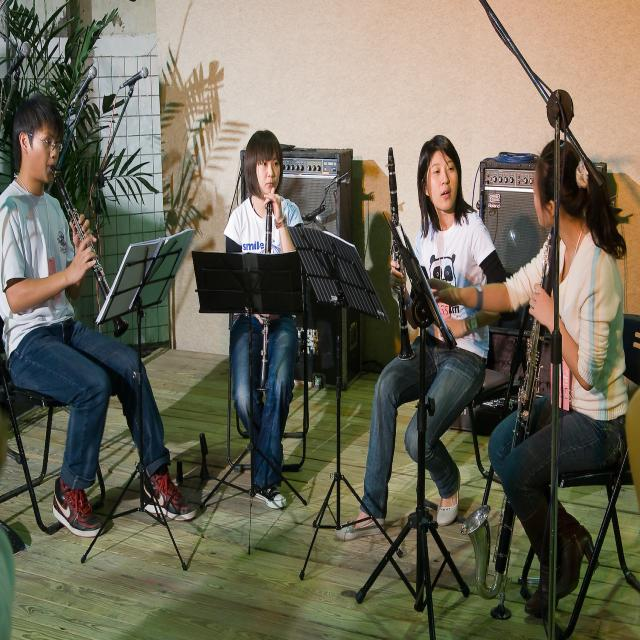clarinet: (50, 162, 134, 338), (380, 145, 419, 362), (256, 194, 278, 402)
